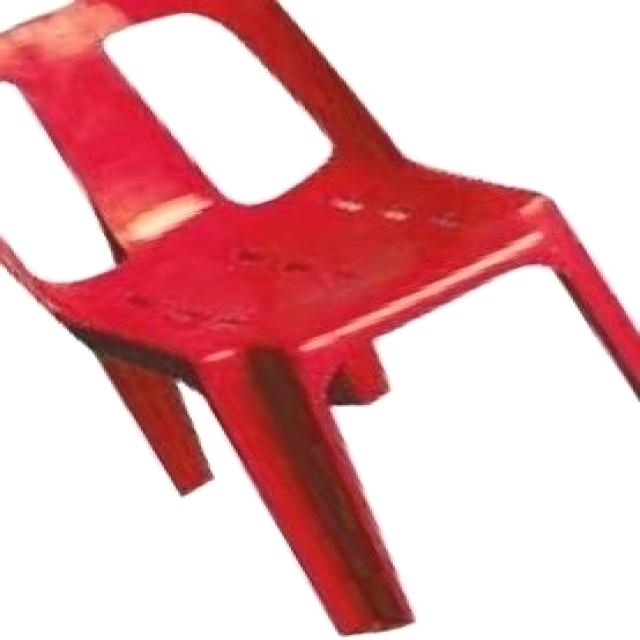Chair: (8, 4, 640, 640)
